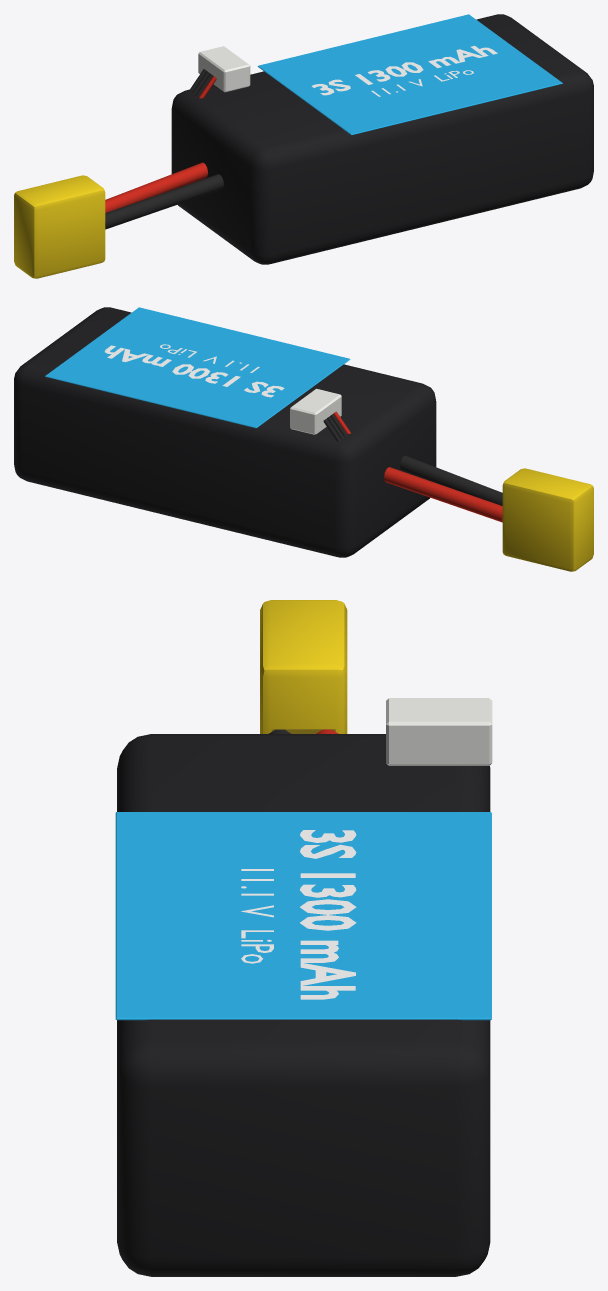
File: bateria_b3s1300.glb
3 views of the same model, one above another, from view 1: azimuth 30°, elevation 25°; view 2: azimuth 150°, elevation 25°; view 3: azimuth 270°, elevation 25° (orthographic). The views are drawn at different scales.
Parts seen in each view (by area): view 1: bateria_cuerpo, bateria_etiqueta, bateria_xt60, bateria_cables, bateria_balanceo, bateria_texto; view 2: bateria_cuerpo, bateria_etiqueta, bateria_xt60, bateria_cables, bateria_balanceo, bateria_texto; view 3: bateria_cuerpo, bateria_etiqueta, bateria_xt60, bateria_balanceo, bateria_texto.
Boxes of the visible parts, left/top/right/bottom form: bateria_cuerpo: left=171, top=14, right=593, bottom=264; bateria_etiqueta: left=257, top=14, right=562, bottom=135; bateria_xt60: left=14, top=175, right=105, bottom=278; bateria_cables: left=105, top=162, right=223, bottom=229; bateria_balanceo: left=189, top=46, right=250, bottom=98; bateria_texto: left=311, top=45, right=497, bottom=96; bateria_cuerpo: left=14, top=307, right=436, bottom=557; bateria_etiqueta: left=45, top=307, right=350, bottom=428; bateria_xt60: left=502, top=468, right=593, bottom=571; bateria_cables: left=384, top=455, right=502, bottom=522; bateria_balanceo: left=290, top=388, right=350, bottom=441; bateria_texto: left=104, top=344, right=284, bottom=397; bateria_cuerpo: left=117, top=734, right=490, bottom=1276; bateria_etiqueta: left=115, top=812, right=491, bottom=1020; bateria_xt60: left=260, top=600, right=347, bottom=733; bateria_balanceo: left=386, top=698, right=492, bottom=765; bateria_texto: left=241, top=830, right=356, bottom=999.
Bounding box in the file's own units: 0.115 × 0.03 × 0.0354.
